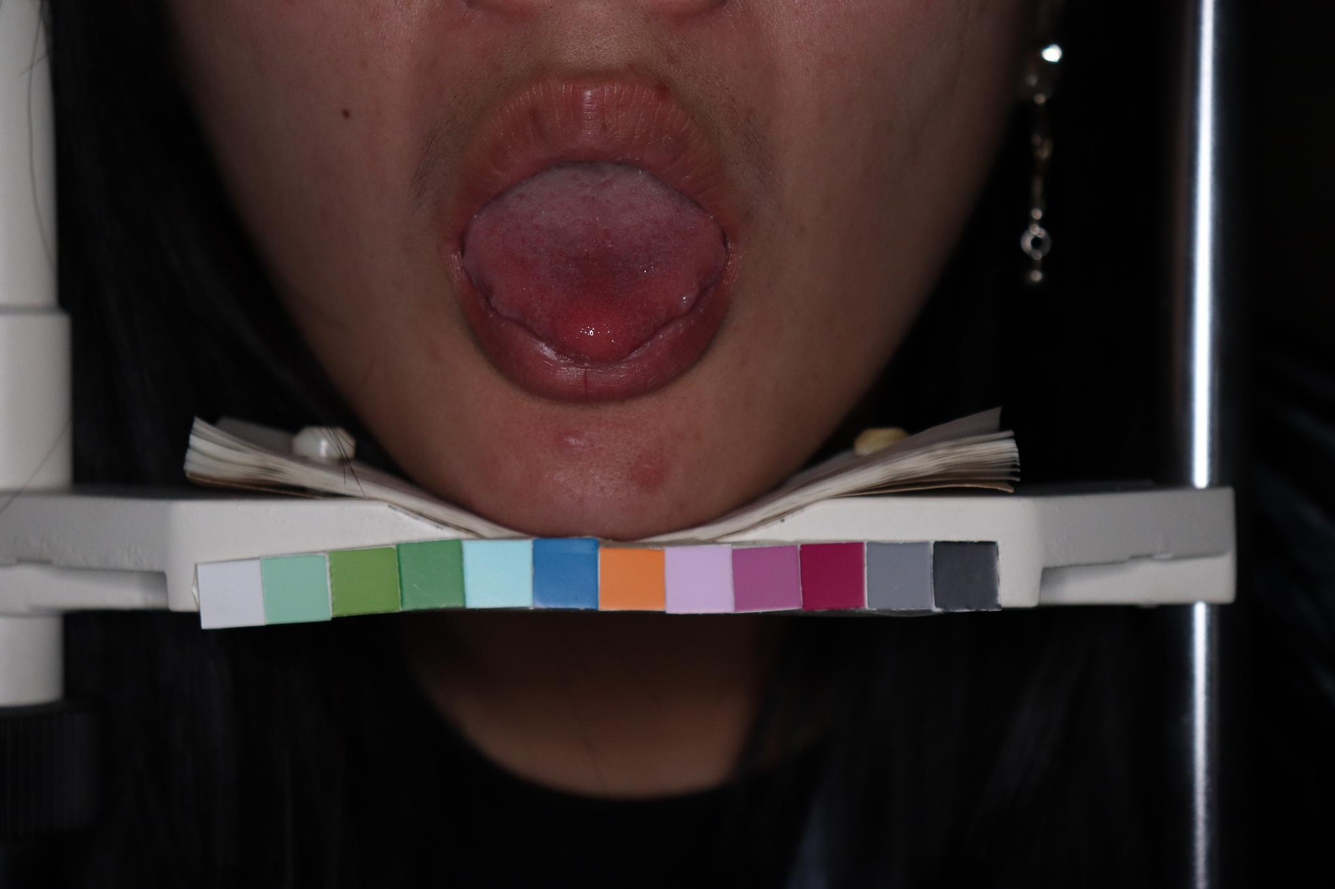baitaishe: (463, 160, 726, 361)
chihenshe: (469, 257, 526, 325)
hongshe: (463, 160, 726, 361)
zishe: (463, 160, 726, 361)
